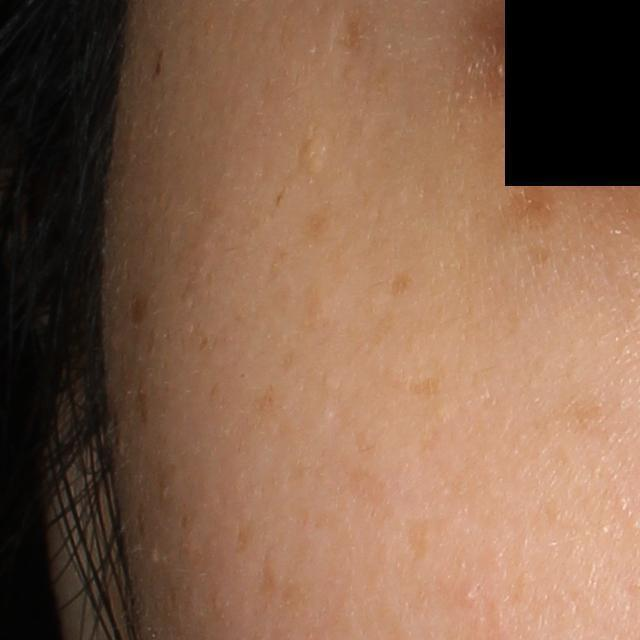comedo: (298, 132, 331, 173), (454, 583, 483, 614)
melasma: (499, 173, 560, 233), (329, 12, 374, 69), (554, 392, 616, 430), (399, 516, 436, 568), (386, 371, 450, 400), (257, 551, 287, 605), (299, 207, 338, 243), (232, 516, 257, 553), (390, 269, 412, 298), (271, 186, 289, 212)
